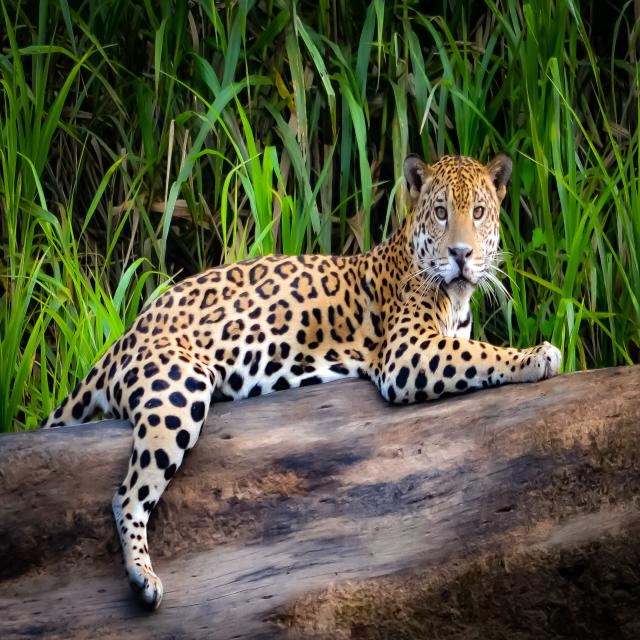Jaguar: (82, 150, 526, 530)
